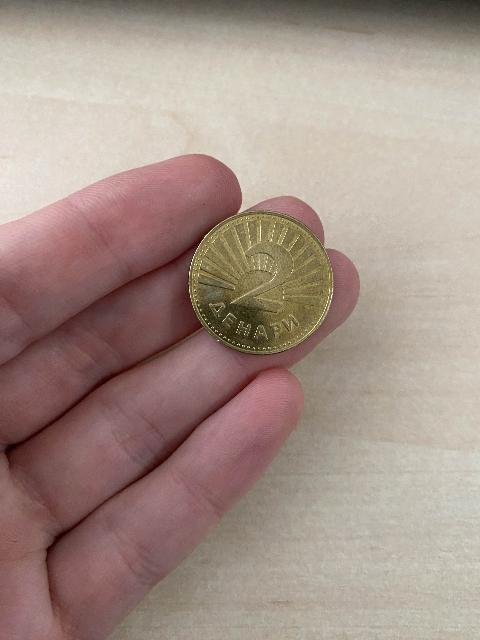coin: (189, 211, 333, 354)
